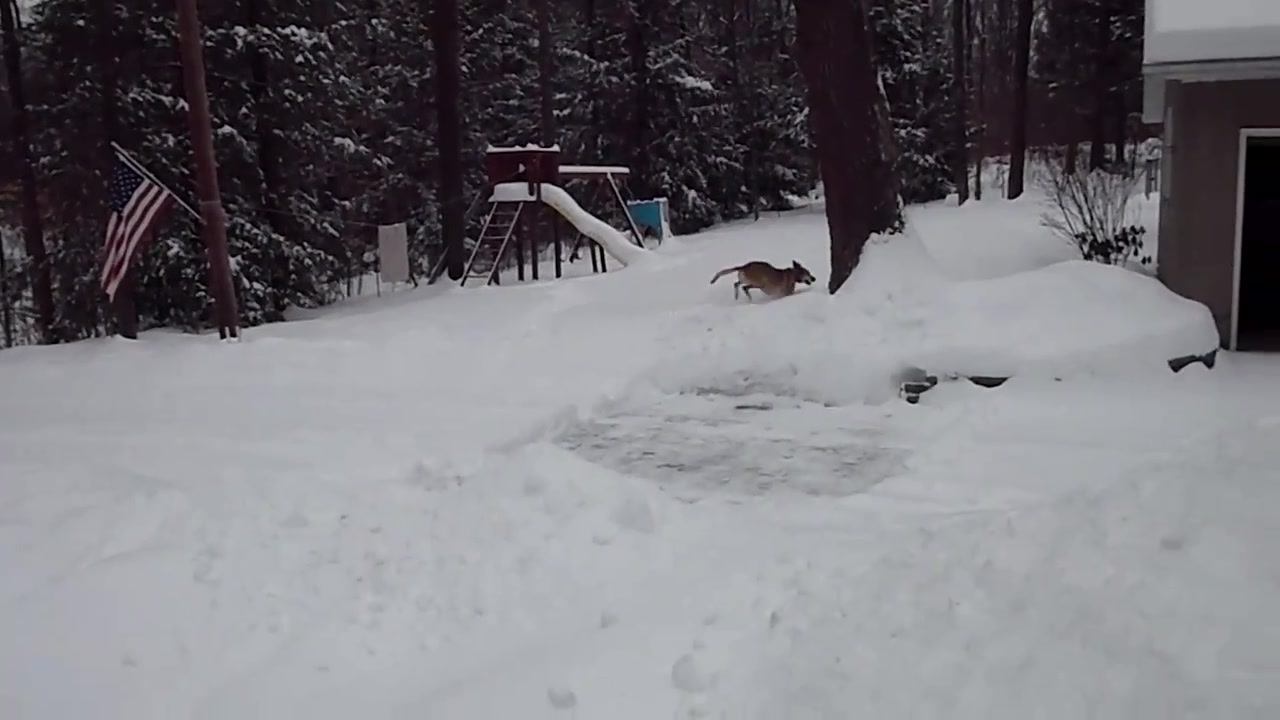dog: (711, 256, 817, 305)
